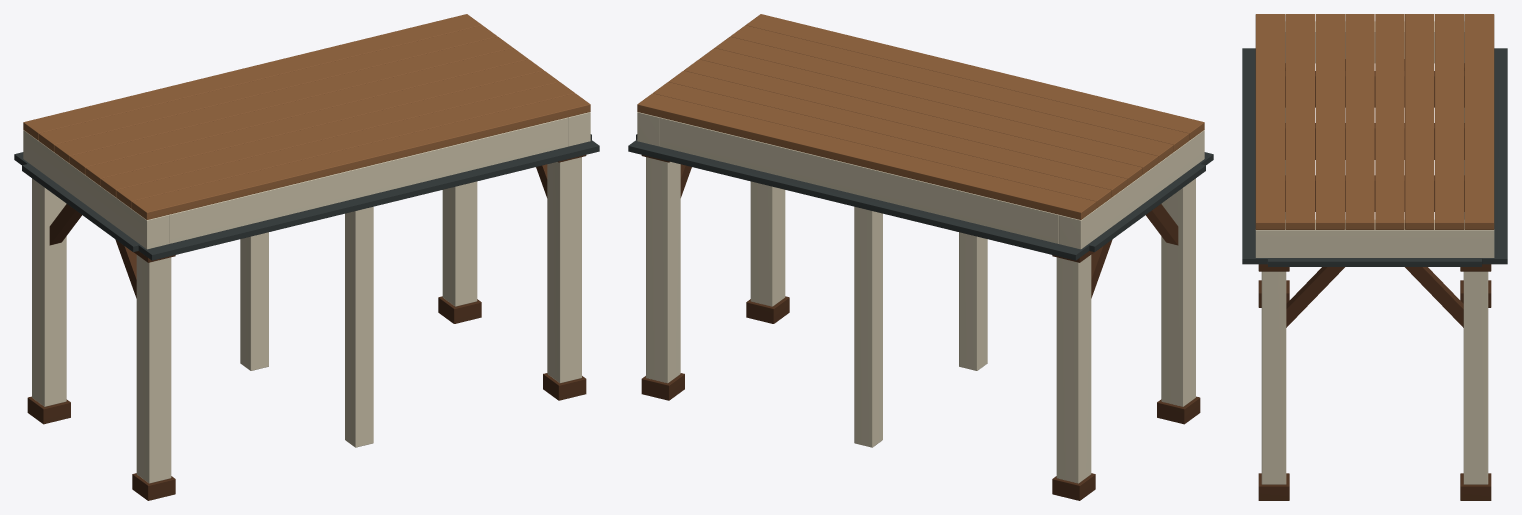
File: rpg-mansion-stair-return-supported-landing-01.glb
3 views of the same model, side by side, from view 1: azimuth 30°, elevation 25°; view 2: azimuth 150°, elevation 25°; view 3: azimuth 270°, elevation 25° (orthographic). The views are drawn at different scales.
Parts seen in each view (by area): view 1: rpg-mansion-stair-return-supported-landing-01; view 2: rpg-mansion-stair-return-supported-landing-01; view 3: rpg-mansion-stair-return-supported-landing-01.
Boxes of the visible parts, x1,y1,x2,y2 form: rpg-mansion-stair-return-supported-landing-01: (14, 14, 599, 500); rpg-mansion-stair-return-supported-landing-01: (628, 14, 1213, 500); rpg-mansion-stair-return-supported-landing-01: (1242, 14, 1507, 500).
Size of the model in its own units: 2.48 by 1.5 by 1.29.
